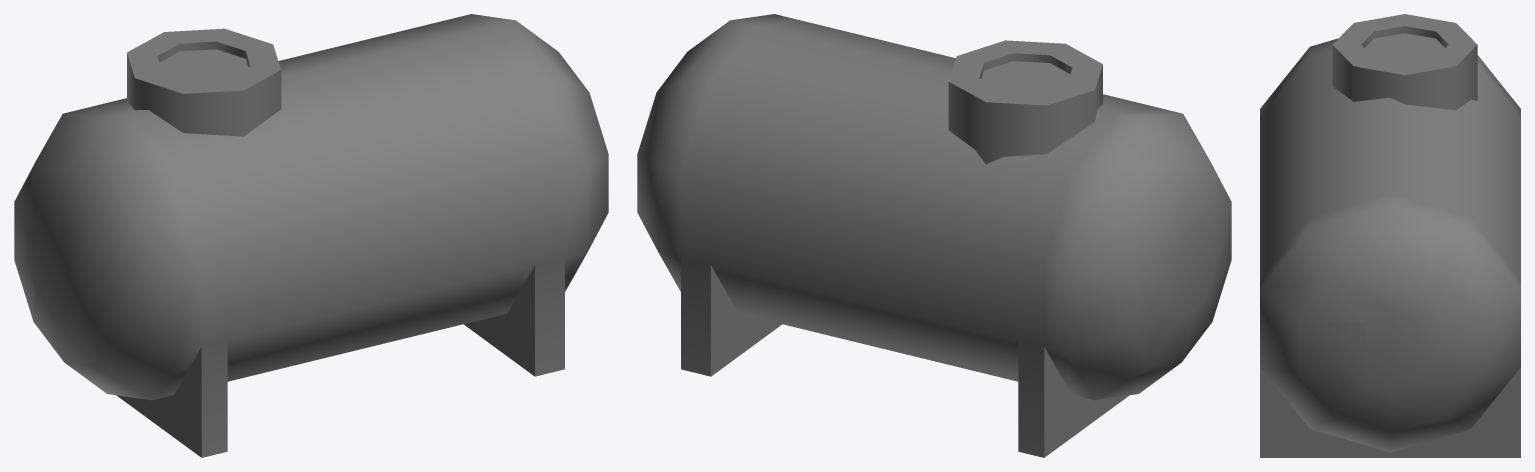
Rendered from Gas_Tank_Mesh_1.fbx.
3 renders of one model, left to right at view 1: azimuth 30°, elevation 25°; view 2: azimuth 150°, elevation 25°; view 3: azimuth 270°, elevation 25°, orthographic. The views are drawn at different scales.
Visible parts, largest first — view 1: Gas_Tank_Mesh; view 2: Gas_Tank_Mesh; view 3: Gas_Tank_Mesh.
Part boxes in pixels (x1=…): Gas_Tank_Mesh: x1=14, y1=14, x2=608, y2=457; Gas_Tank_Mesh: x1=637, y1=14, x2=1231, y2=457; Gas_Tank_Mesh: x1=1260, y1=14, x2=1520, y2=457.
Size of the model in its own units: 13.03 by 7.63 by 6.25.
Materials: 1 (1 with a texture image).
